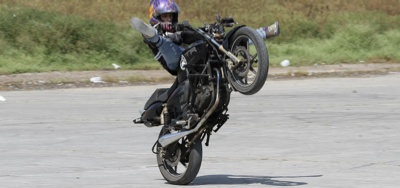helmet: (150, 1, 182, 31)
